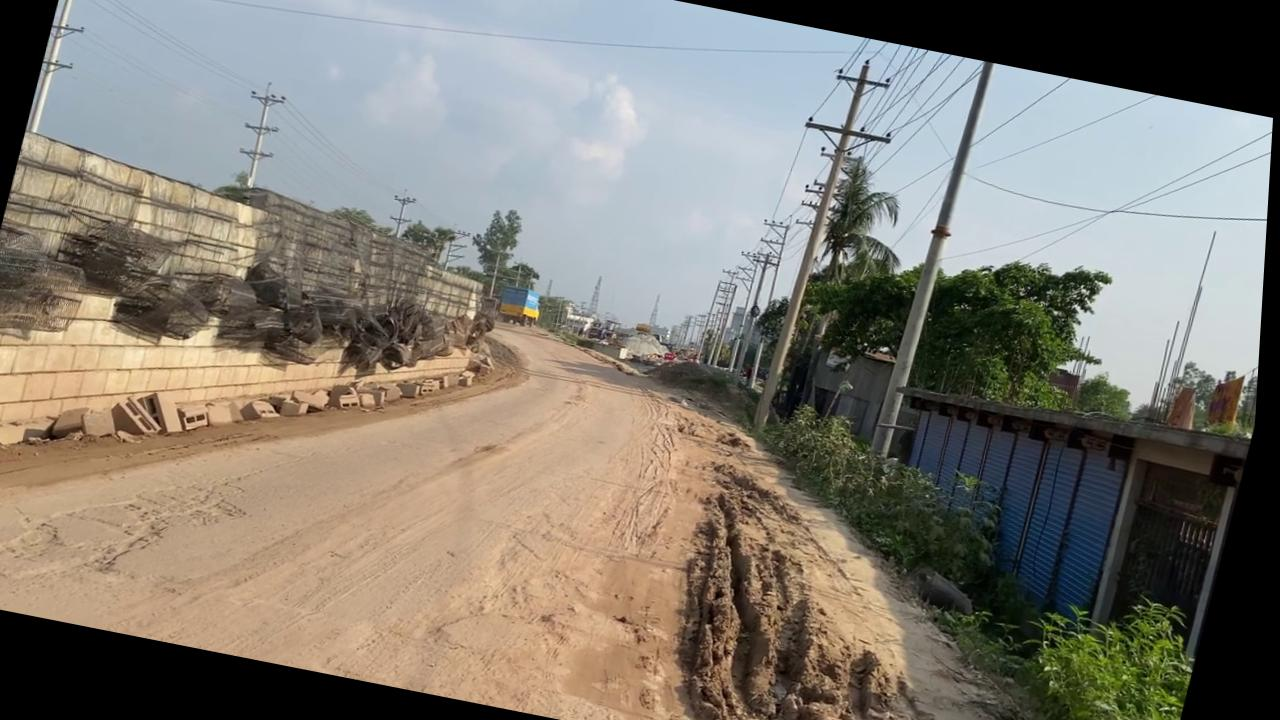Muddy road: (0, 218, 1180, 720)
Pole: (732, 50, 910, 442), (871, 58, 994, 463)
Rickshaw: (600, 389, 1167, 720)
Traffic-sign: (749, 144, 928, 436), (461, 201, 529, 299)
Tree: (496, 282, 548, 328)
Upstairs: (0, 127, 523, 522)
